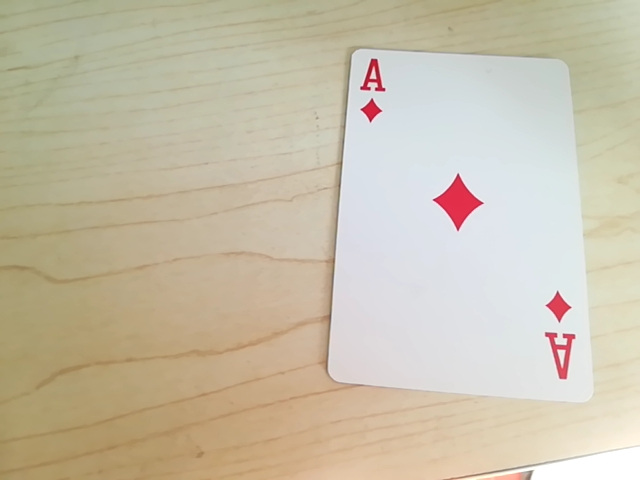fk a: (348, 51, 386, 129), (544, 309, 578, 384)
